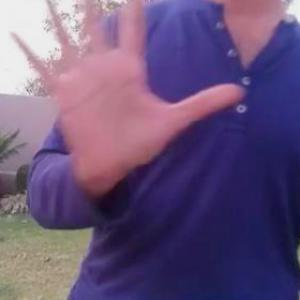follow_hand: (3, 0, 251, 190)
